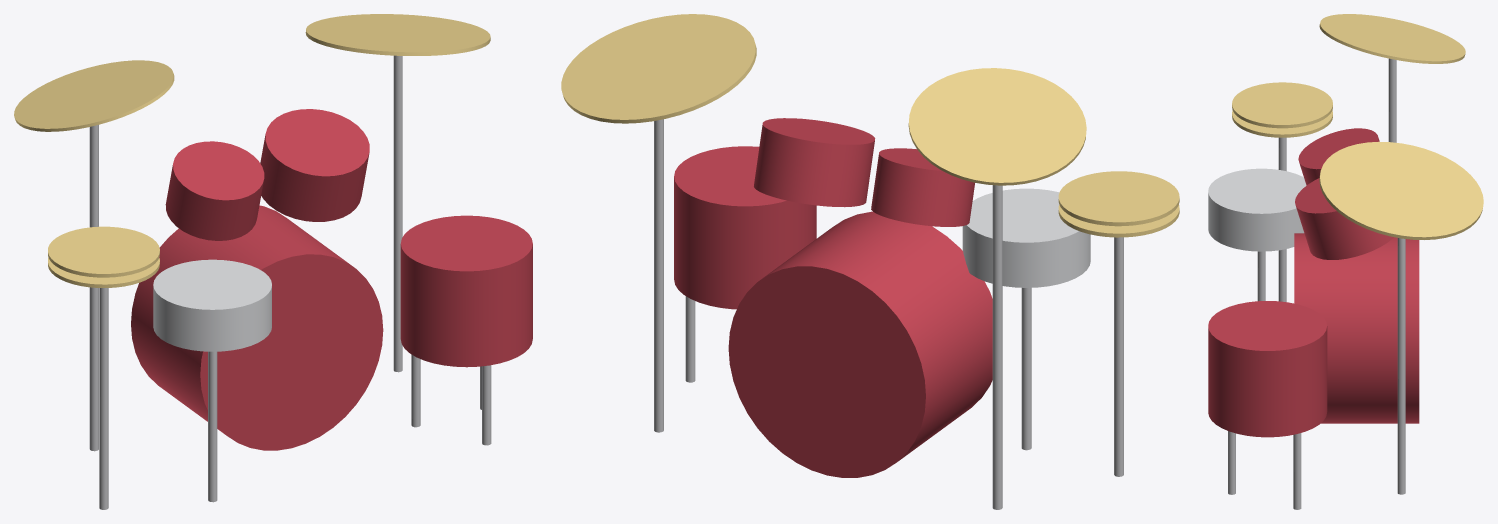
The model's file is drum-kit.gltf.
3 views of the same model, side by side, from view 1: azimuth 30°, elevation 25°; view 2: azimuth 150°, elevation 25°; view 3: azimuth 270°, elevation 25° (orthographic). The views are drawn at different scales.
Parts seen in each view (by area): view 1: Kick, TomFloor, Hardware, TomMid, Snare, TomHigh, Crash, Ride, HiHat; view 2: Kick, Crash, TomFloor, Ride, Hardware, Snare, TomMid, HiHat, TomHigh; view 3: Kick, TomFloor, Ride, Snare, Hardware, Crash, HiHat, TomMid, TomHigh.
Part boxes in pixels (bbox=[...]): Kick: bbox=[131, 205, 383, 450]; TomFloor: bbox=[400, 215, 532, 367]; Hardware: bbox=[89, 55, 491, 509]; TomMid: bbox=[260, 109, 369, 221]; Snare: bbox=[153, 259, 271, 351]; TomHigh: bbox=[165, 141, 264, 240]; Crash: bbox=[14, 60, 174, 131]; Ride: bbox=[305, 14, 490, 55]; HiHat: bbox=[48, 226, 159, 287]; Kick: bbox=[728, 211, 992, 477]; Crash: bbox=[908, 68, 1086, 185]; TomFloor: bbox=[674, 146, 816, 309]; Ride: bbox=[561, 14, 756, 123]; Hardware: bbox=[654, 119, 1123, 509]; Snare: bbox=[962, 188, 1090, 287]; TomMid: bbox=[754, 118, 875, 207]; HiHat: bbox=[1058, 171, 1179, 237]; TomHigh: bbox=[871, 148, 974, 226]; Kick: bbox=[1294, 233, 1419, 423]; TomFloor: bbox=[1208, 301, 1327, 437]; Ride: bbox=[1319, 141, 1483, 239]; Snare: bbox=[1208, 168, 1306, 251]; Hardware: bbox=[1228, 58, 1405, 509]; Crash: bbox=[1319, 14, 1465, 63]; HiHat: bbox=[1232, 82, 1332, 137]; TomMid: bbox=[1295, 178, 1393, 259]; TomHigh: bbox=[1298, 128, 1379, 185].
Size of the model in its own units: 1.71 by 1.28 by 0.9266.
